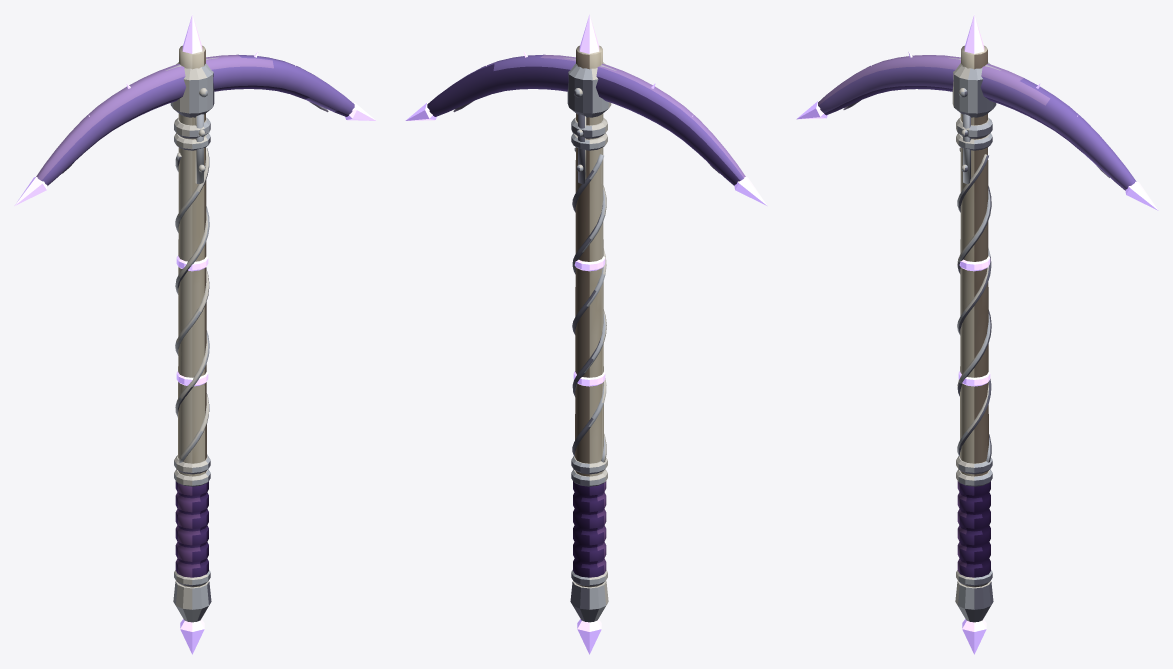
The model's file is tl_pickaxe_crystal.glb.
The picture shows the model from 3 angles, left to right: view 1: azimuth 30°, elevation 25°; view 2: azimuth 150°, elevation 25°; view 3: azimuth 330°, elevation 25°; orthographic projection.
Parts seen in each view (by area): view 1: Weapon; view 2: Weapon; view 3: Weapon.
Boxes of the visible parts, x1,y1,x2,y2 form: Weapon: (14,14,376,654); Weapon: (405,14,767,654); Weapon: (796,14,1158,654).
Bounding box in the file's own units: 0.5923 × 1 × 0.076.
